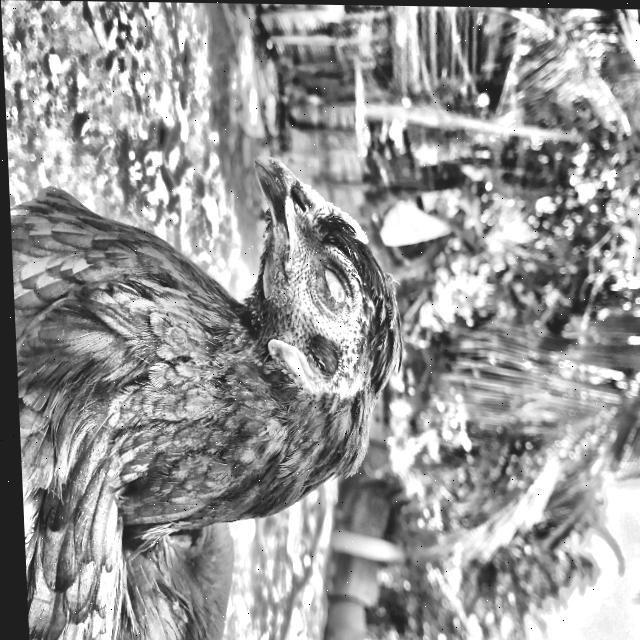Coryza: (6, 136, 437, 640)
